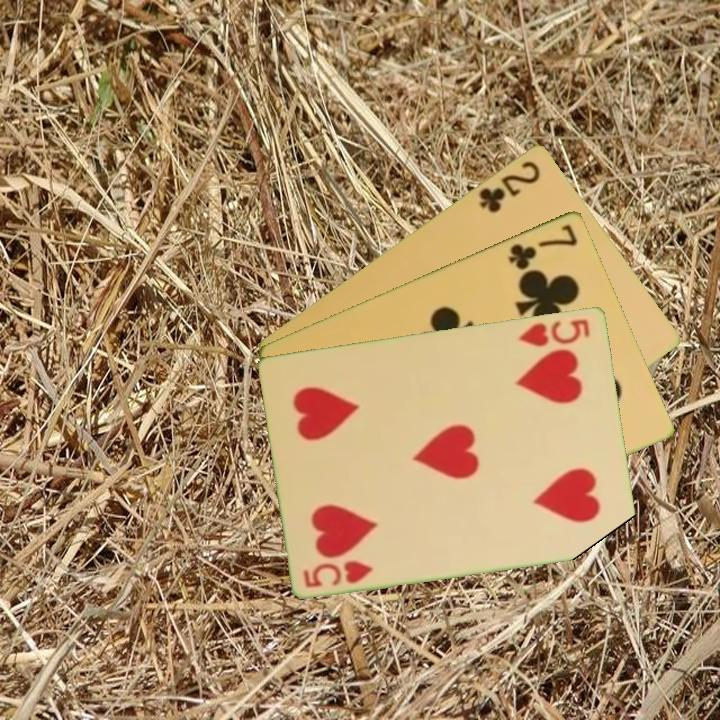2c: (475, 156, 544, 216)
5h: (515, 314, 593, 349), (300, 556, 377, 591)
7c: (505, 220, 581, 273)
